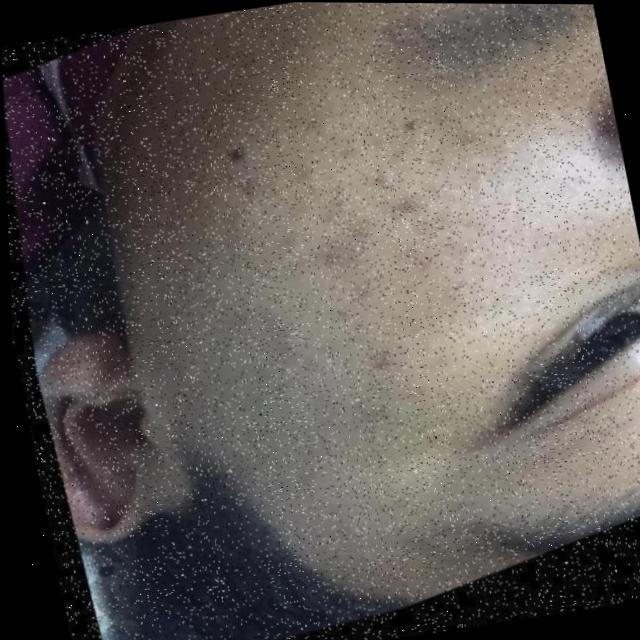Acne: (288, 141, 469, 433)
